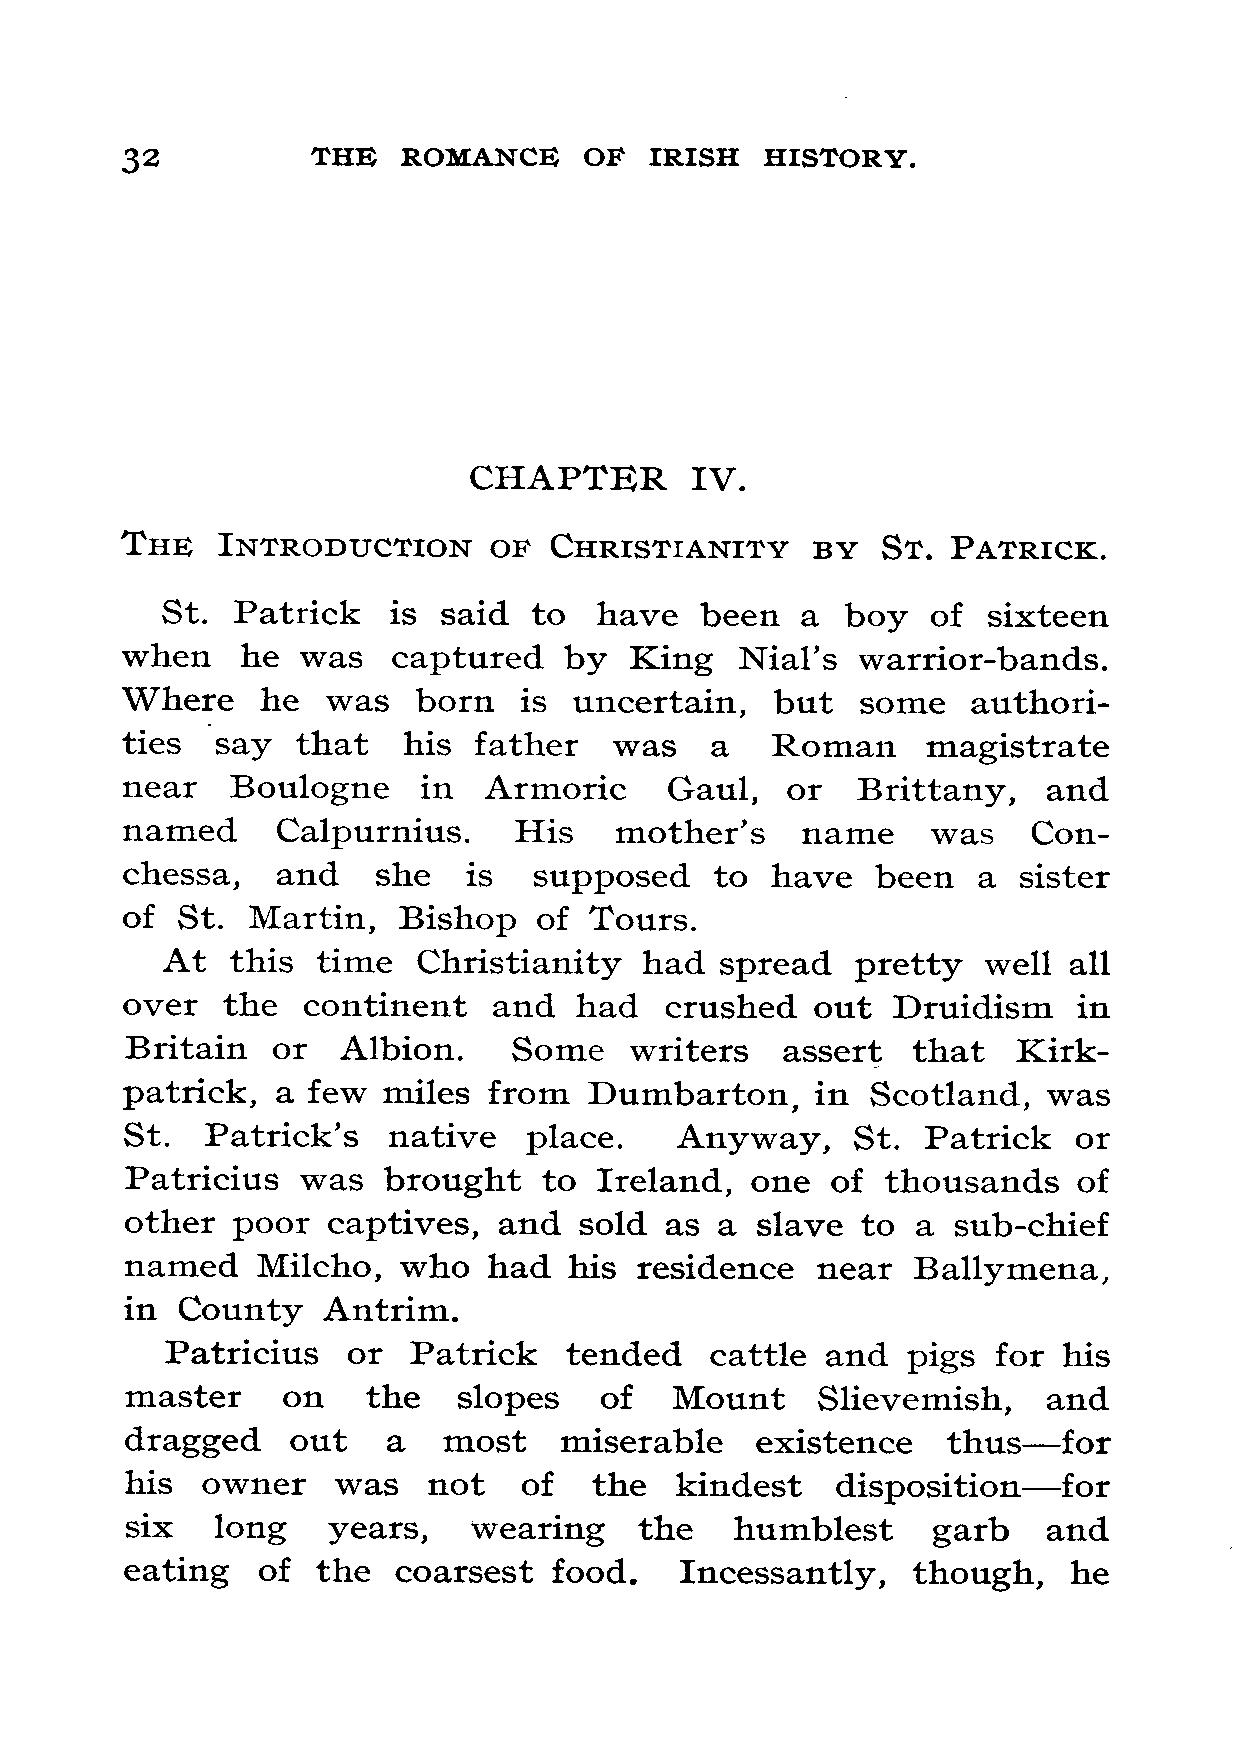chapter: (118, 462, 1108, 561), (305, 142, 923, 172)
content: (119, 603, 1117, 1593)
content_pagenumber: (118, 140, 162, 174)
